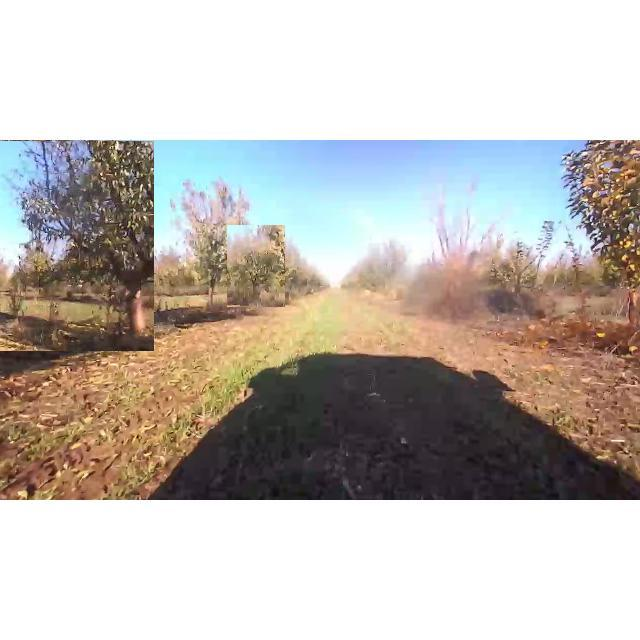direk: (0, 141, 154, 351), (560, 140, 640, 356), (165, 167, 252, 316), (227, 225, 285, 307)
